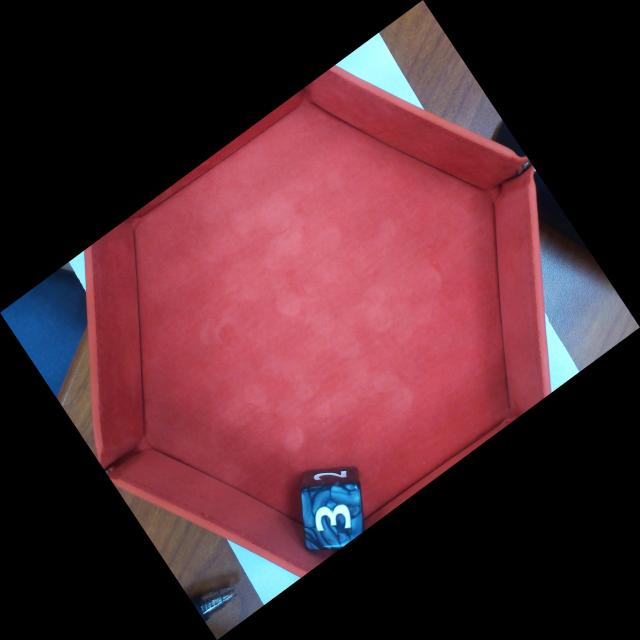dice: (299, 481, 365, 552)
